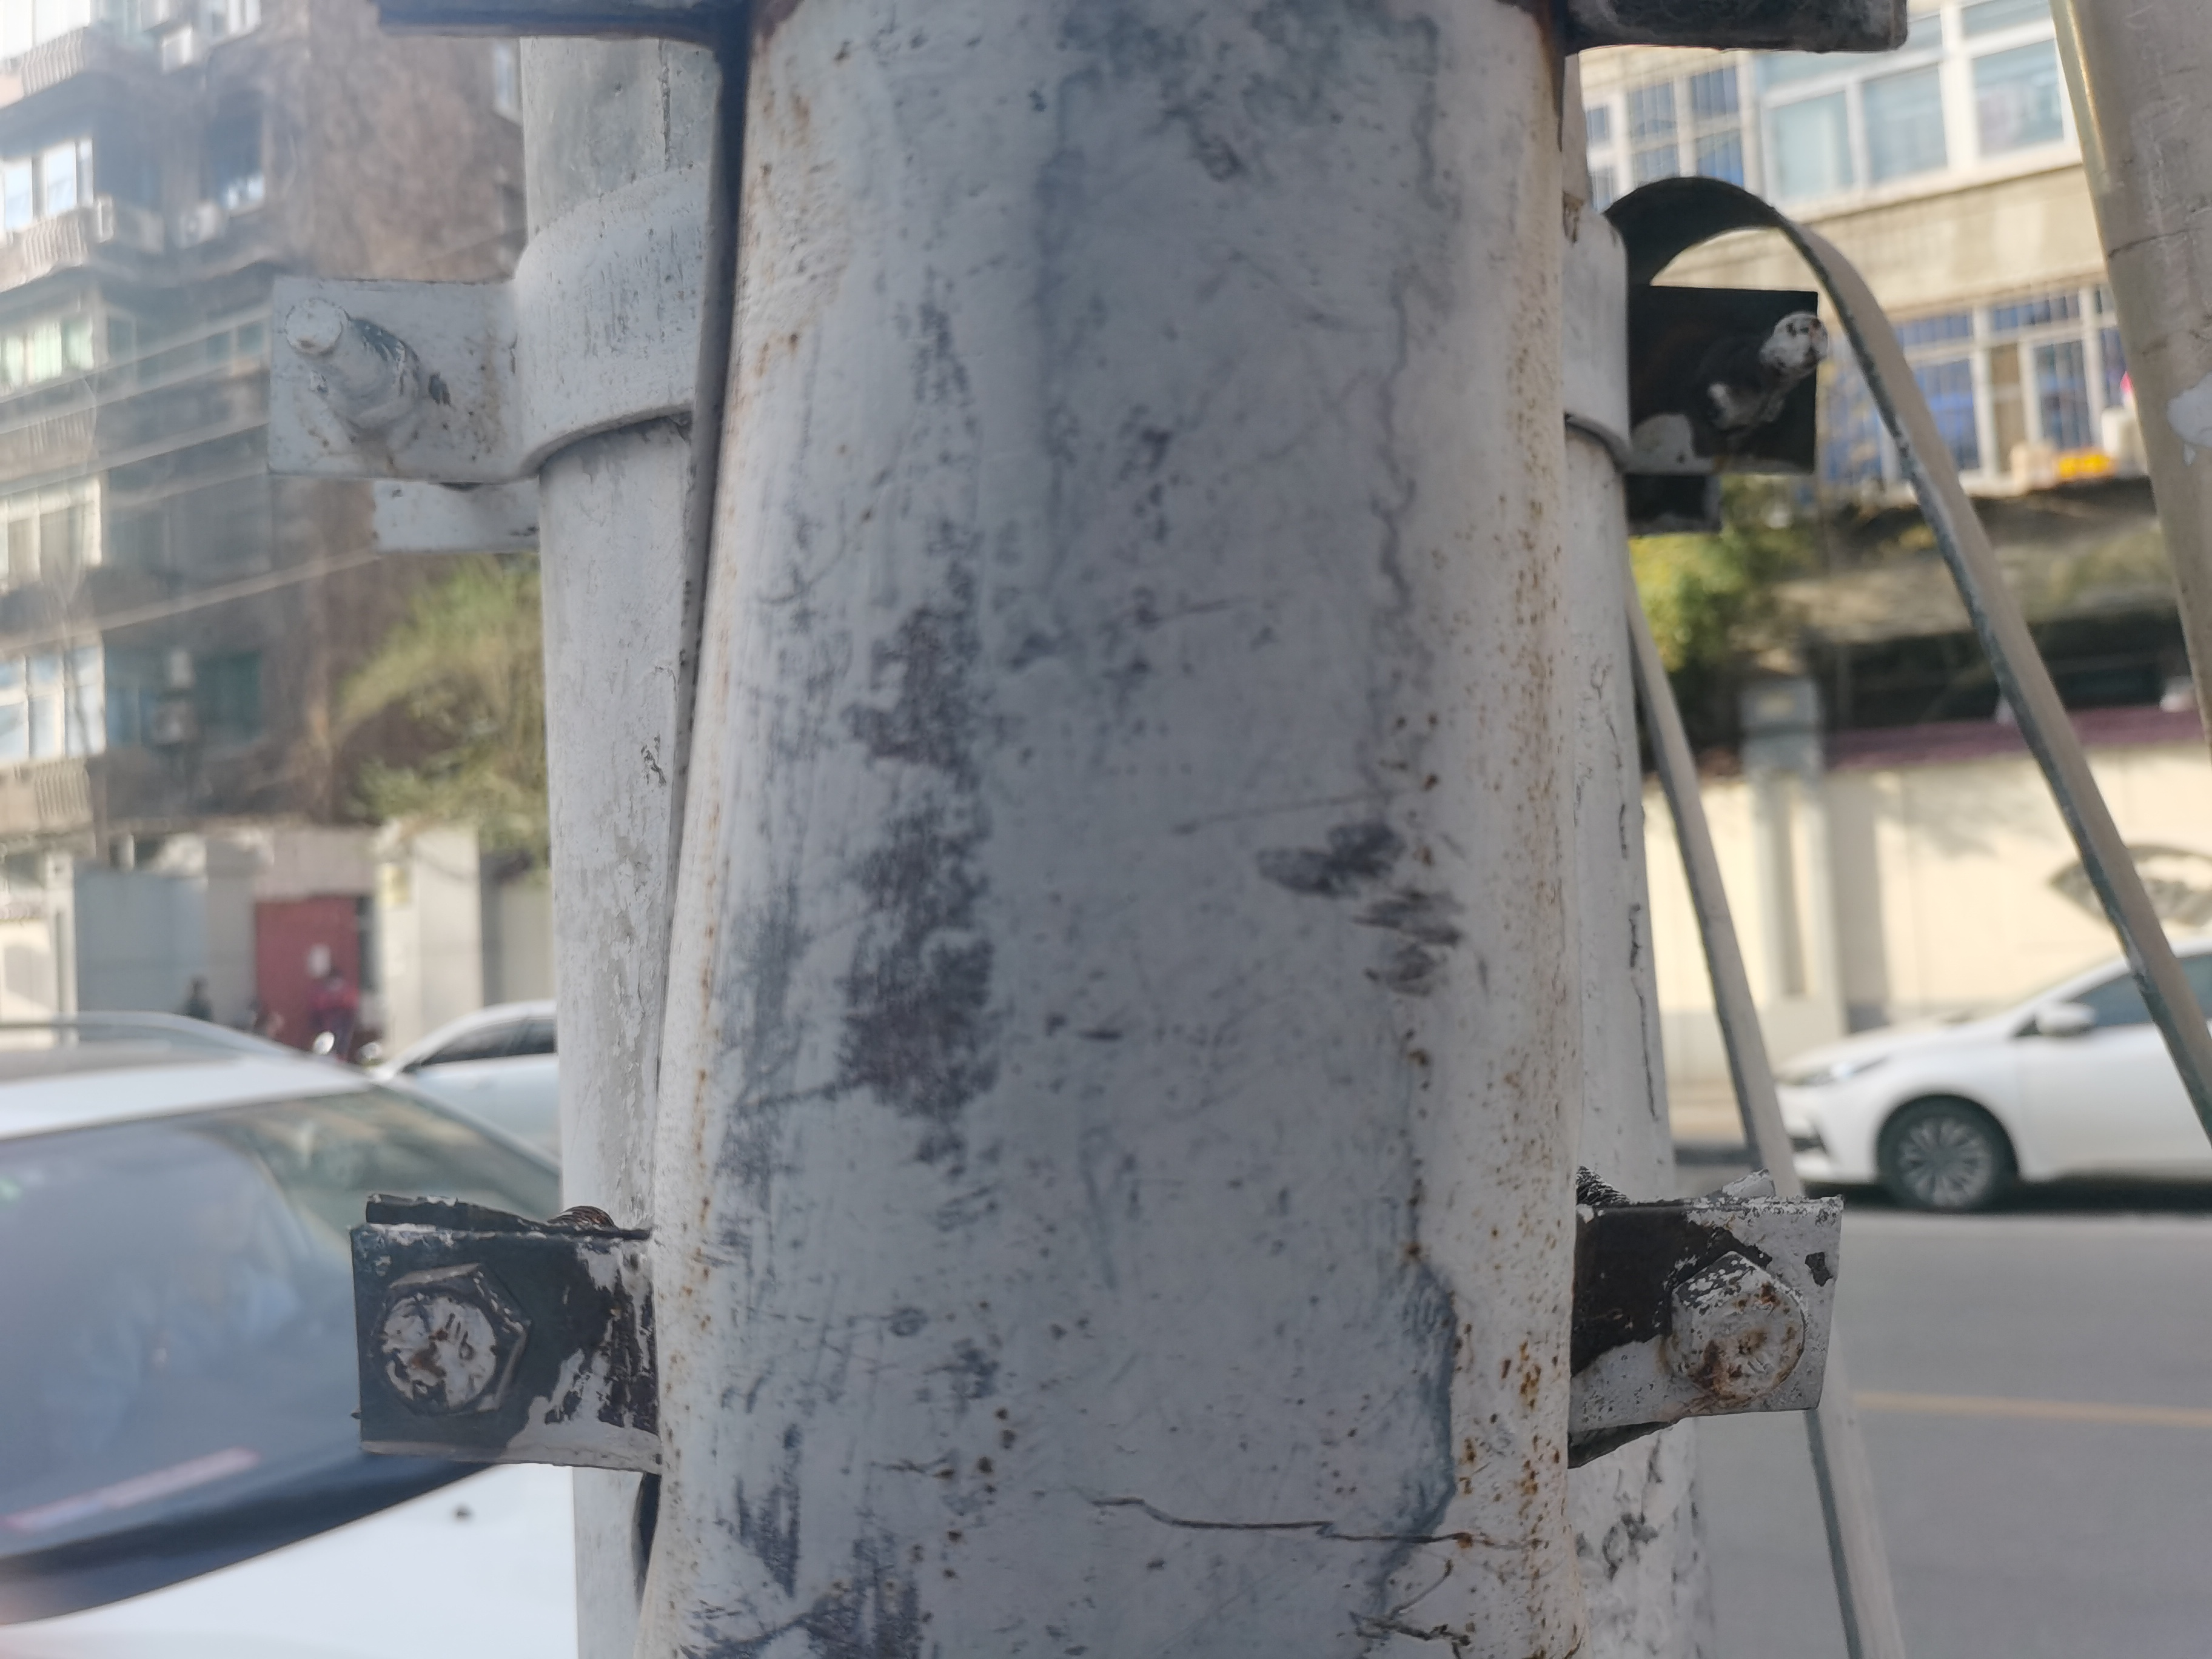bolt_a: (357, 1256, 542, 1424), (1658, 1241, 1810, 1413)
bolt_b: (308, 310, 428, 436)
vague: (1693, 326, 1796, 436)
